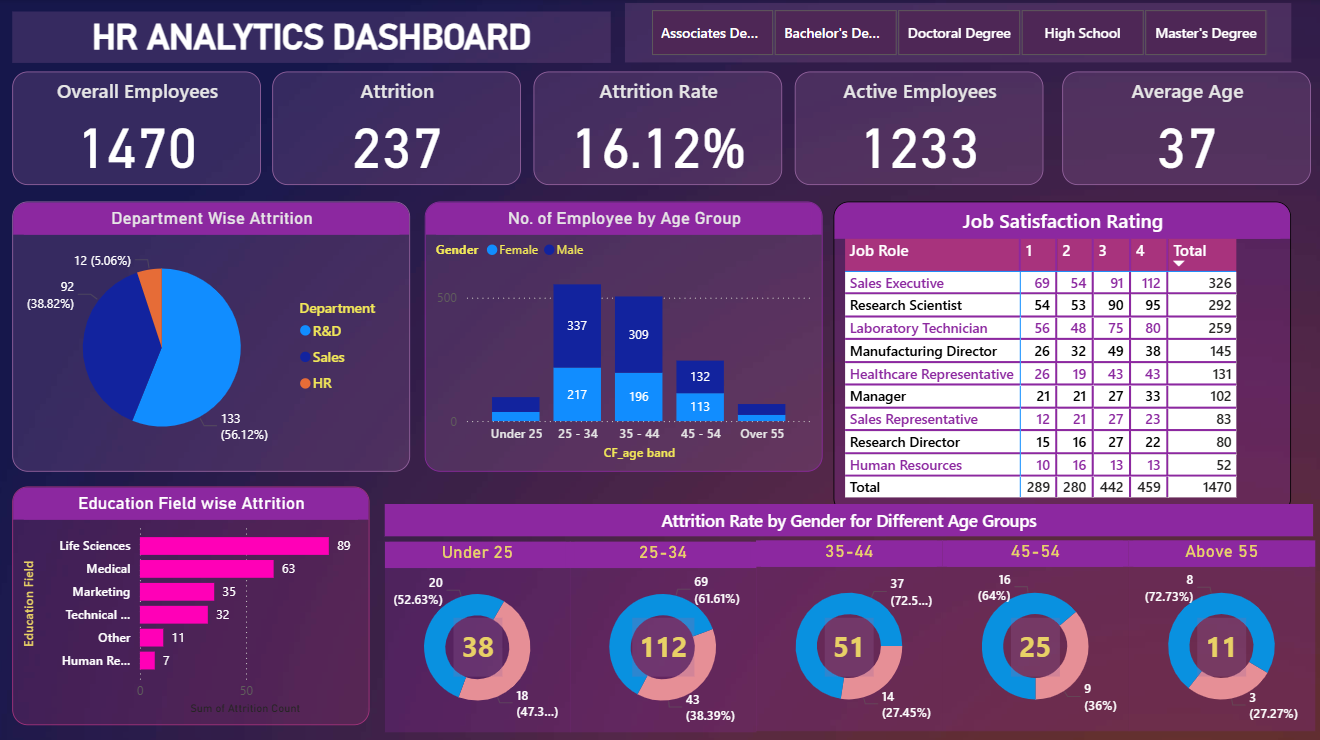

Layout of this report page (visuals, bound fields, positions):
{"tool":"powerbi","page":{"name":"Page 1","canvas":[1280,720],"ordinal":0},"visuals":[{"type":"card","title":"Overall Employees","fields":{"Values":["Sum(HR data.Employee Count)"]},"box":[15.1,70,240.1,109.8],"z":0},{"type":"card","title":"Attrition","fields":{"Values":["Sum(HR data.Attrition Count)"]},"box":[266.2,70,240.1,109.8],"z":1000},{"type":"card","title":"Attrition Rate","fields":{"Values":["HR data.Attrition Rate"]},"box":[518.7,70,240.1,109.8],"z":2000},{"type":"card","title":"Active Employees","fields":{"Values":["HR data.Active Employees"]},"box":[771.2,70,240.1,109.8],"z":3000},{"type":"card","title":"Average Age","fields":{"Values":["Avg(HR data.Age)"]},"box":[1029.2,70,240.1,109.8],"z":4000},{"type":"pieChart","title":"Department Wise Attrition","fields":{"Category":["HR data.Department"],"Y":["Sum(HR data.Attrition Count)"]},"box":[15.1,194.9,384.2,260.7],"z":5000},{"type":"columnChart","title":"No. of Employee by Age Group","fields":{"Category":["HR data.CF_age band"],"Y":["Sum(HR data.Employee Count)"],"Series":["HR data.Gender"]},"box":[414.4,194.9,384.2,260.7],"z":6000},{"type":"pivotTable","title":"Job Satisfaction Rating","fields":{"Rows":["HR data.Job Role"],"Columns":["HR data.Job Satisfaction"],"Values":["Sum(HR data.Employee Count)"]},"box":[808.2,194.9,441.9,301.9],"z":7000},{"type":"barChart","title":"Education Field wise Attrition","fields":{"Category":["HR data.Education Field"],"Y":["Sum(HR data.Attrition Count)"]},"box":[15.1,470.7,344.4,230.5],"z":8000},{"type":"donutChart","title":"Under 25","fields":{"Category":["HR data.Gender"],"Y":["Sum(HR data.Attrition Count)"],"Series":["HR data.CF_age band"]},"box":[375.7,524.2,179,183.9],"z":9000},{"type":"textbox","box":[374.6,487.1,896,31.6],"z":10000},{"type":"donutChart","title":"25-34","fields":{"Category":["HR data.Gender"],"Y":["Sum(HR data.Attrition Count)"],"Series":["HR data.CF_age band"]},"box":[554.1,524.2,179.8,183.9],"z":11000},{"type":"donutChart","title":"35-44","fields":{"Category":["HR data.Gender"],"Y":["Sum(HR data.Attrition Count)"],"Series":["HR data.CF_age band"]},"box":[733.9,522.8,179.8,183.9],"z":12000},{"type":"donutChart","title":"45-54","fields":{"Category":["HR data.Gender"],"Y":["Sum(HR data.Attrition Count)"],"Series":["HR data.CF_age band"]},"box":[913.6,522.8,179.8,183.9],"z":13000},{"type":"donutChart","title":"Above 55","fields":{"Category":["HR data.Gender"],"Y":["Sum(HR data.Attrition Count)"],"Series":["HR data.CF_age band"]},"box":[1093.4,522.8,179.8,183.9],"z":14000},{"type":"card","fields":{"Values":["Sum(HR data.Attrition Count)"]},"box":[441.6,597.2,47.1,56.7],"z":15000},{"type":"card","fields":{"Values":["Sum(HR data.Attrition Count)"]},"box":[614.1,597.2,60.3,56.7],"z":16000},{"type":"card","fields":{"Values":["Sum(HR data.Attrition Count)"]},"box":[799.9,597.2,47.1,56.7],"z":17000},{"type":"card","fields":{"Values":["Sum(HR data.Attrition Count)"]},"box":[979.6,597.2,47.1,56.7],"z":18000},{"type":"card","fields":{"Values":["Sum(HR data.Attrition Count)"]},"box":[1159.4,597.2,47.1,56.7],"z":19000},{"type":"textbox","box":[15.7,12.1,577.9,49.5],"z":20000},{"type":"slicer","fields":{"Values":["HR data.Education"]},"box":[606.5,4.1,643.6,57.6],"z":21000}]}

Visuals, with their boxes in screenshot pixels (x1, y1, x2, y2), scaled from the page's 1280x720 canvas onto the 1320x740 screenshot:
"Overall Employees" card: bbox=[16, 72, 263, 185]
"Attrition" card: bbox=[275, 72, 522, 185]
"Attrition Rate" card: bbox=[535, 72, 783, 185]
"Active Employees" card: bbox=[795, 72, 1043, 185]
"Average Age" card: bbox=[1061, 72, 1309, 185]
"Department Wise Attrition" pieChart: bbox=[16, 200, 412, 468]
"No. of Employee by Age Group" columnChart: bbox=[427, 200, 824, 468]
"Job Satisfaction Rating" pivotTable: bbox=[833, 200, 1289, 511]
"Education Field wise Attrition" barChart: bbox=[16, 484, 371, 721]
"Under 25" donutChart: bbox=[387, 539, 572, 728]
textbox: bbox=[386, 501, 1310, 533]
"25-34" donutChart: bbox=[571, 539, 757, 728]
"35-44" donutChart: bbox=[757, 537, 942, 726]
"45-54" donutChart: bbox=[942, 537, 1128, 726]
"Above 55" donutChart: bbox=[1128, 537, 1313, 726]
card - Sum(HR data.Attrition Count): bbox=[455, 614, 504, 672]
card - Sum(HR data.Attrition Count): bbox=[633, 614, 695, 672]
card - Sum(HR data.Attrition Count): bbox=[825, 614, 873, 672]
card - Sum(HR data.Attrition Count): bbox=[1010, 614, 1059, 672]
card - Sum(HR data.Attrition Count): bbox=[1196, 614, 1244, 672]
textbox: bbox=[16, 12, 612, 63]
slicer - HR data.Education: bbox=[625, 4, 1289, 63]
